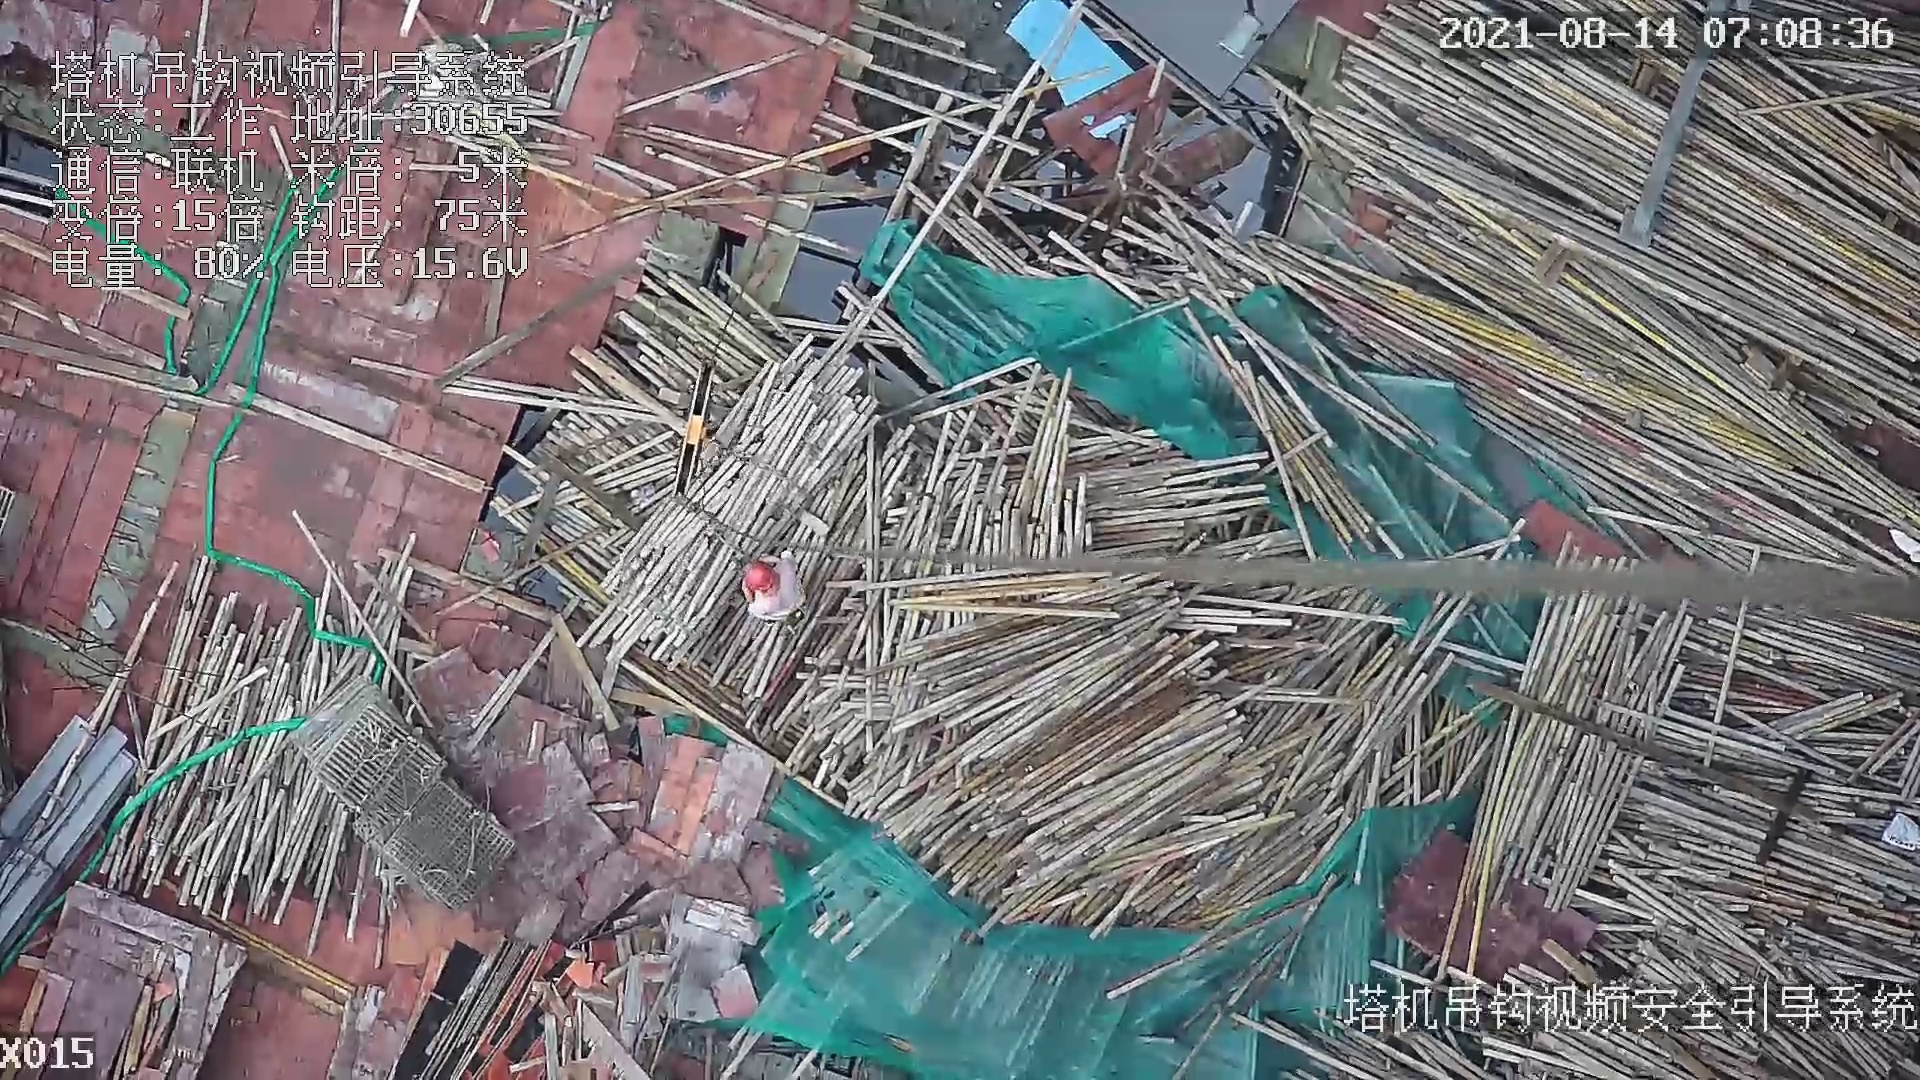helmet: (744, 562, 776, 593)
hook: (674, 353, 722, 501)
person: (738, 558, 812, 619)
